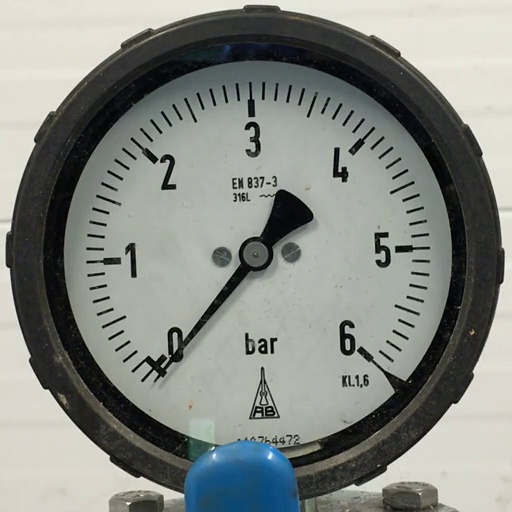base: (235, 237, 271, 273)
circle_plate: (57, 57, 457, 450)
maximum: (357, 346, 374, 362)
minimum: (141, 355, 167, 382)
number: (369, 226, 395, 271), (326, 142, 352, 184), (154, 150, 179, 193), (239, 118, 264, 160), (163, 323, 185, 365), (337, 315, 359, 356), (121, 240, 139, 282)
tip: (150, 377, 159, 385)
